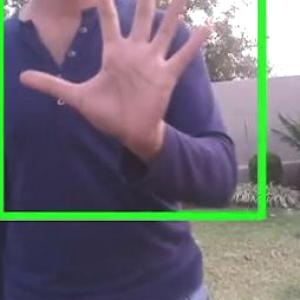follow_hand: (12, 0, 221, 151)
